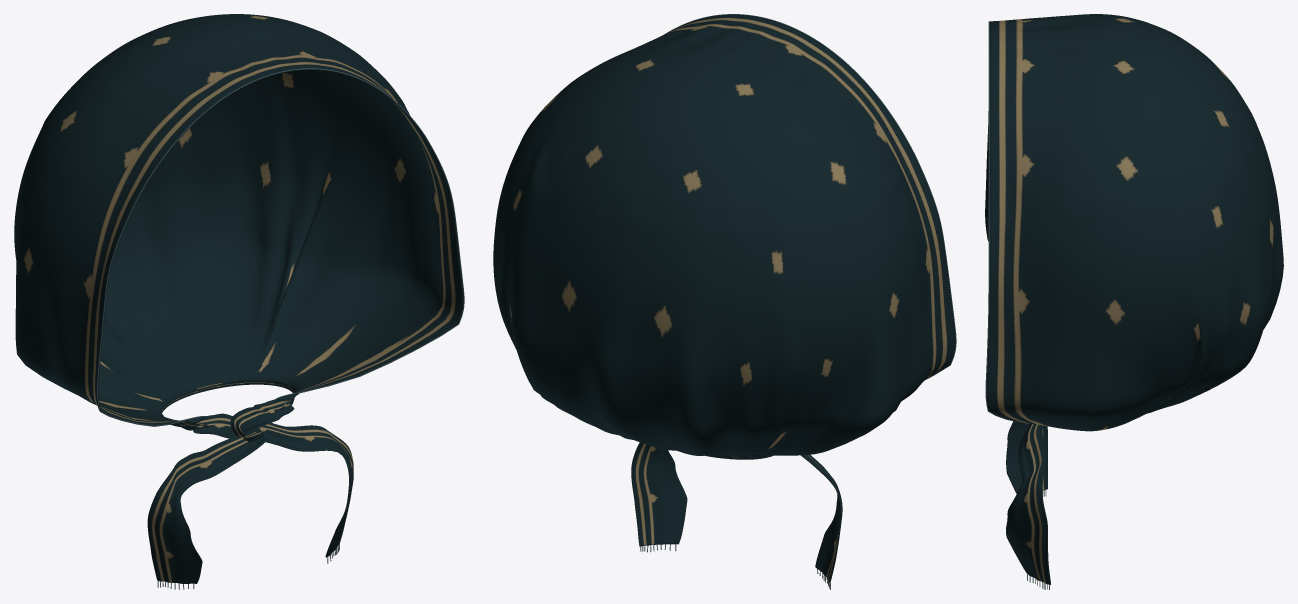
The model's file is Feminine-tank-pashmina244-headgear.glb.
3 views of the same model, side by side, from view 1: azimuth 30°, elevation 25°; view 2: azimuth 150°, elevation 25°; view 3: azimuth 270°, elevation 25° (orthographic). The views are drawn at different scales.
Parts seen in each view (by area): view 1: 226 headgear / Headwear / continuous woven pashmina239, 226 headgear / Headwear / face edge239; view 2: 226 headgear / Headwear / continuous woven pashmina239, 226 headgear / Headwear / face edge239; view 3: 226 headgear / Headwear / continuous woven pashmina239, 226 headgear / Headwear / face edge239.
Boxes of the visible parts, x1,y1,x2,y2 form: 226 headgear / Headwear / continuous woven pashmina239: (14,14,463,583); 226 headgear / Headwear / face edge239: (96,68,464,426); 226 headgear / Headwear / continuous woven pashmina239: (493,14,955,583); 226 headgear / Headwear / face edge239: (664,14,956,379); 226 headgear / Headwear / continuous woven pashmina239: (985,14,1283,584); 226 headgear / Headwear / face edge239: (985,21,1028,423).
Bounding box in the file's own units: 1.02 × 1.35 × 0.7116.
3 materials, 1 textured.
